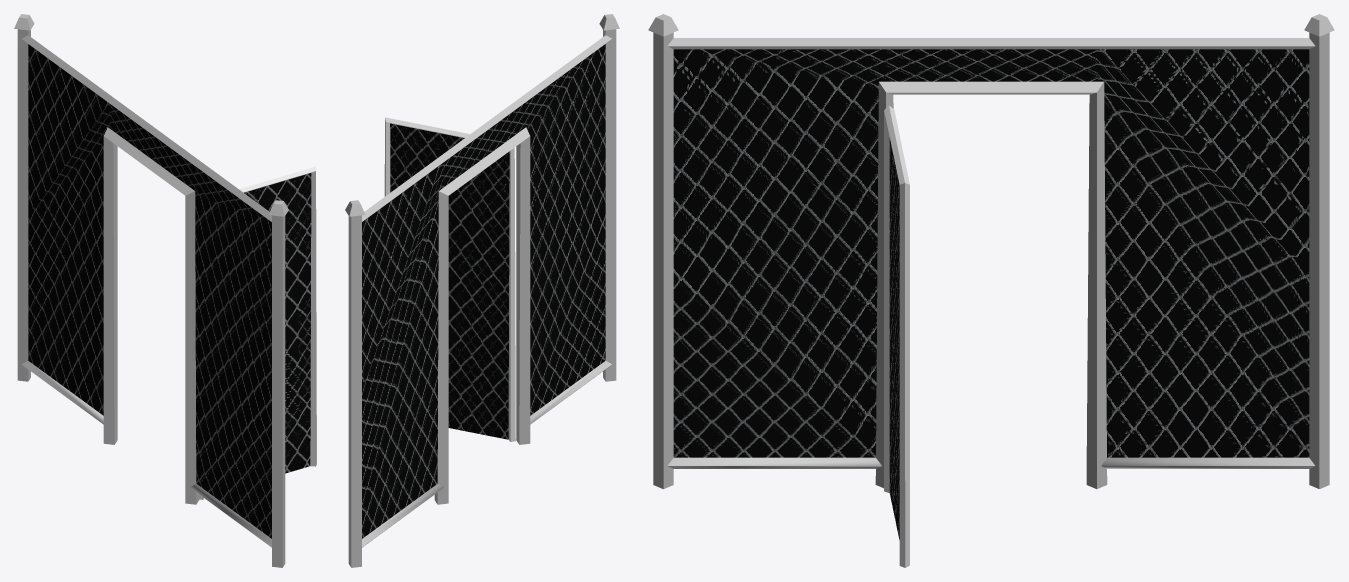
The model's file is chain fence door.fbx.
3 views of the same model, side by side, from view 1: azimuth 30°, elevation 25°; view 2: azimuth 150°, elevation 25°; view 3: azimuth 270°, elevation 25° (orthographic). The views are drawn at different scales.
Parts seen in each view (by area): view 1: Fence.004, Fence.006, Fence, Fence.003, Fence.005, Fence.002, Fence.001; view 2: Fence.004, Fence.005, Fence.006, Fence, Fence.003, Fence.002, Fence.001; view 3: Fence.004, Fence.006, Fence, Fence.003, Fence.002, Fence.001, Fence.005.
Boxes of the visible parts, <box> form: Fence.004: <box>28,44,271,538</box>; Fence.006: <box>28,45,271,537</box>; Fence: <box>14,14,288,567</box>; Fence.003: <box>103,127,199,504</box>; Fence.005: <box>244,173,311,473</box>; Fence.002: <box>199,166,316,499</box>; Fence.001: <box>22,361,271,547</box>; Fence.004: <box>362,44,605,538</box>; Fence.005: <box>390,123,509,439</box>; Fence.006: <box>362,52,605,538</box>; Fence: <box>345,14,619,567</box>; Fence.003: <box>434,127,530,504</box>; Fence.002: <box>384,117,515,441</box>; Fence.001: <box>362,361,611,547</box>; Fence.004: <box>673,49,1309,457</box>; Fence.006: <box>673,49,1309,457</box>; Fence: <box>648,14,1334,488</box>; Fence.003: <box>875,81,1107,488</box>; Fence.002: <box>884,105,909,567</box>; Fence.001: <box>668,457,1314,468</box>; Fence.005: <box>889,138,899,539</box>.
Size of the model in its own units: 81.91 by 199 by 265.
